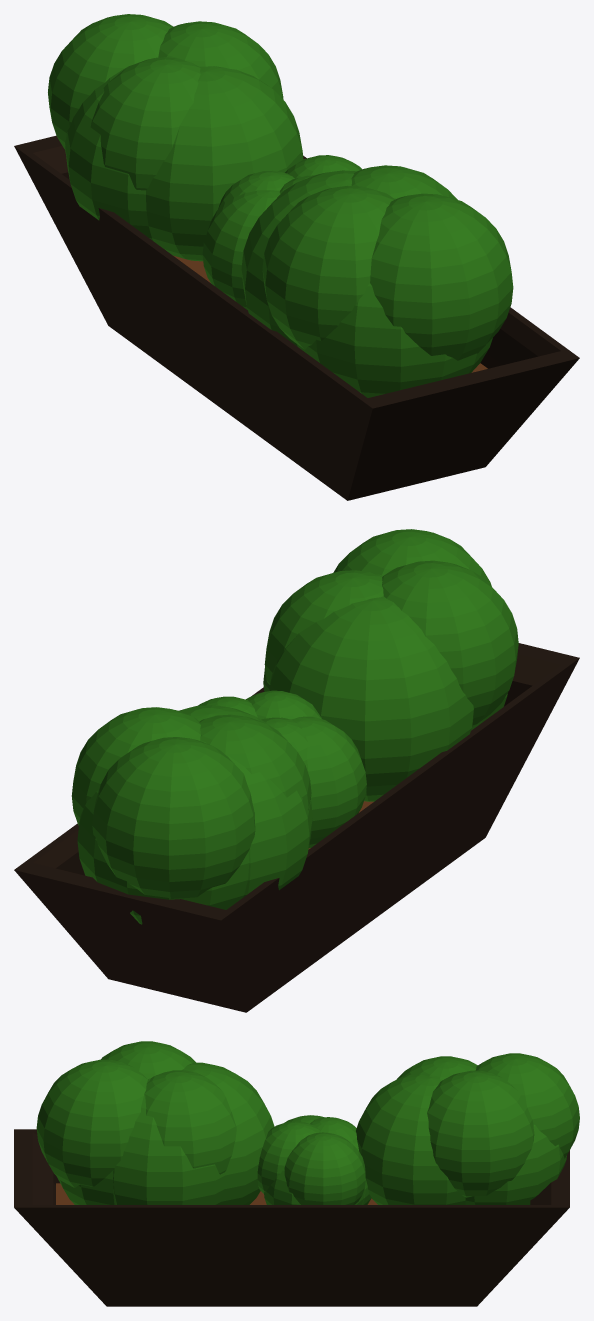
Rendered from pot_de_fleur.fbx.
3 views of the same model, one above another, from view 1: azimuth 30°, elevation 25°; view 2: azimuth 150°, elevation 25°; view 3: azimuth 270°, elevation 25° (orthographic). The views are drawn at different scales.
Parts seen in each view (by area): view 1: feuillage, pot_de_fleur; view 2: feuillage, pot_de_fleur; view 3: feuillage, pot_de_fleur.
Boxes of the visible parts, x1,y1,x2,y2 form: feuillage: (48,14,513,397); pot_de_fleur: (14,135,579,500); feuillage: (71,529,518,924); pot_de_fleur: (14,643,579,1012); feuillage: (36,1041,579,1204); pot_de_fleur: (14,1129,569,1306).
Size of the model in its own units: 159 by 194 by 458.
